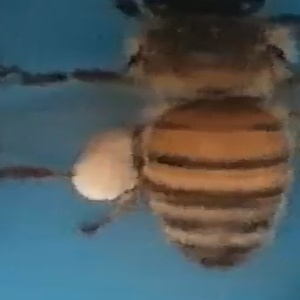bee: (7, 3, 298, 274)
